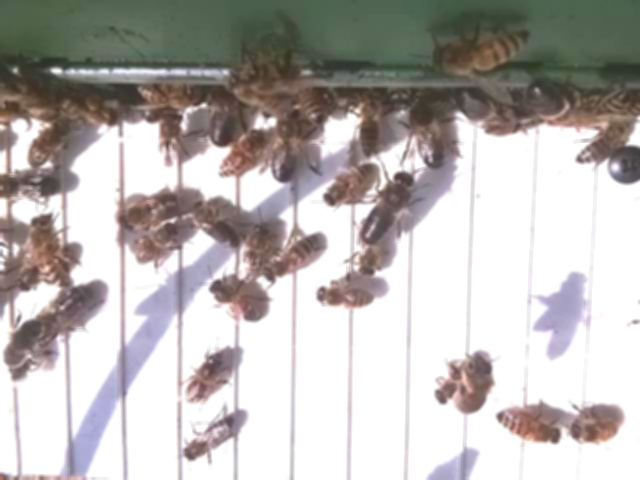Drone: (357, 171, 415, 250), (31, 283, 98, 340), (404, 96, 448, 173), (116, 188, 186, 231), (269, 107, 302, 188)
Worker: (29, 213, 74, 289), (493, 406, 562, 448), (186, 199, 241, 249), (318, 164, 376, 211), (25, 118, 75, 172), (179, 416, 234, 465), (205, 277, 261, 325), (268, 233, 321, 283), (181, 352, 224, 412), (573, 118, 626, 166), (217, 130, 263, 183), (563, 409, 623, 446), (352, 96, 384, 163), (312, 281, 374, 314), (241, 220, 272, 284), (133, 224, 183, 263), (152, 115, 185, 172)
